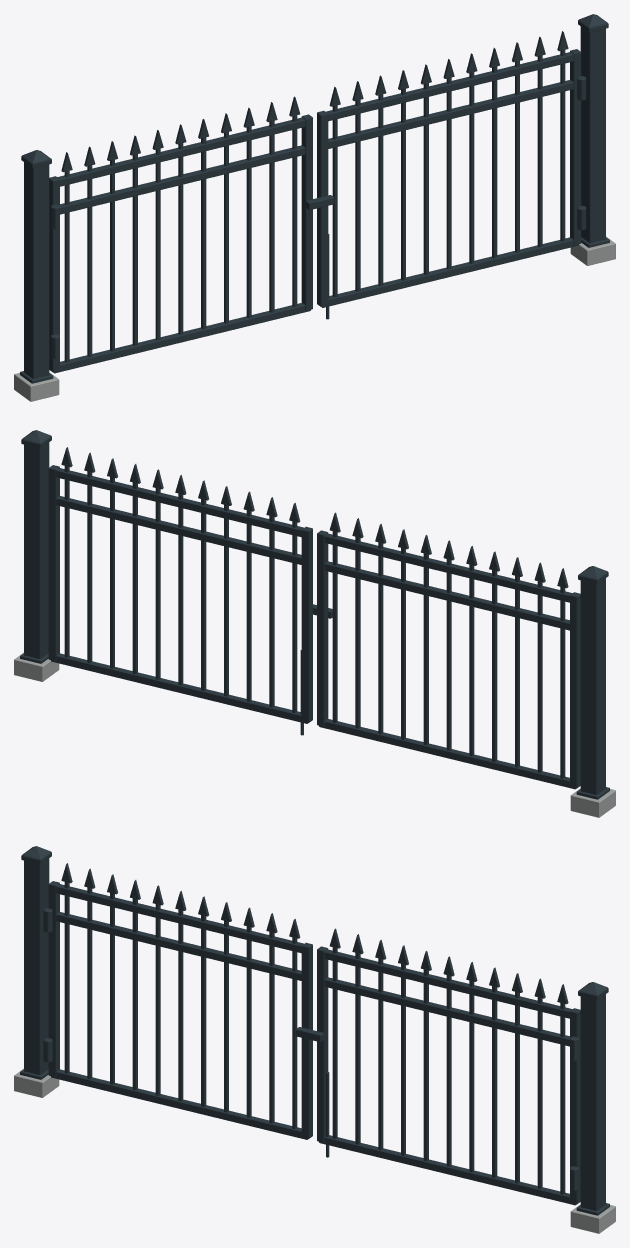
Rendered from b19_aluminum_double_drive_gate.glb.
3 views of the same model, one above another, from view 1: azimuth 30°, elevation 25°; view 2: azimuth 150°, elevation 25°; view 3: azimuth 330°, elevation 25° (orthographic).
Visible parts, largest first — view 1: b19_aluminum_double_drive_gate; view 2: b19_aluminum_double_drive_gate; view 3: b19_aluminum_double_drive_gate.
Part boxes in pixels (left/top/right/bottom): b19_aluminum_double_drive_gate: left=14, top=14, right=615, bottom=401; b19_aluminum_double_drive_gate: left=14, top=430, right=615, bottom=817; b19_aluminum_double_drive_gate: left=14, top=846, right=615, bottom=1233.
Bounding box in the file's own units: 4.63 × 1.83 × 0.23.
